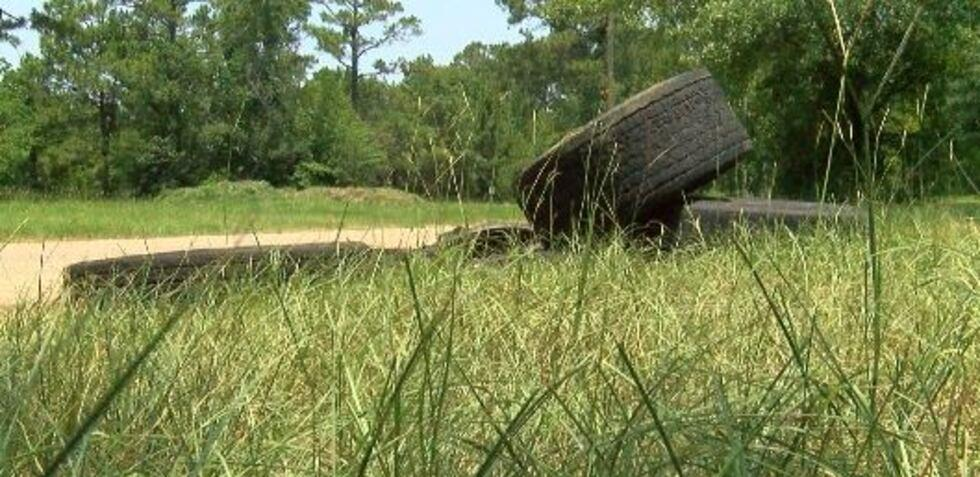overgrown grass: (0, 33, 979, 476)
